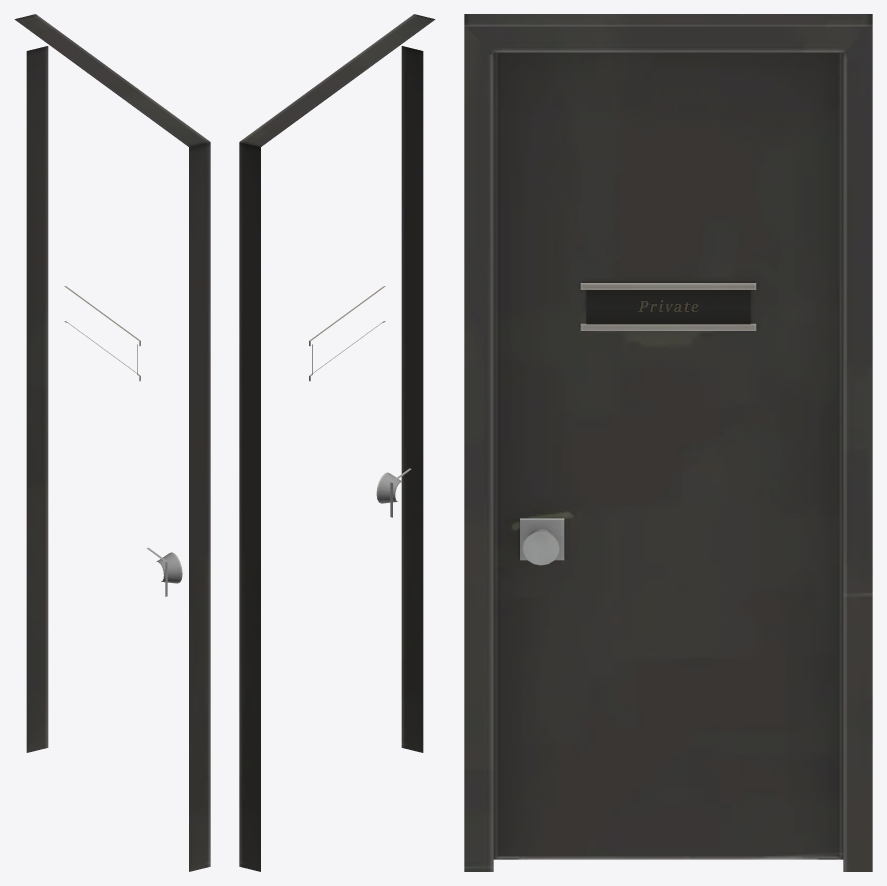
3 views of the same model, side by side, from view 1: azimuth 30°, elevation 25°; view 2: azimuth 150°, elevation 25°; view 3: azimuth 270°, elevation 25° (orthographic). The views are drawn at different scales.
Visible parts, largest first — view 1: body0_model0_lod0_mesh0; view 2: body0_model0_lod0_mesh0; view 3: body0_model0_lod0_mesh0, body0_model0_lod0_mesh1.
Boxes of the visible parts, x1,y1,x2,y2 form: body0_model0_lod0_mesh0: [14, 14, 210, 871]; body0_model0_lod0_mesh0: [239, 14, 435, 871]; body0_model0_lod0_mesh0: [464, 14, 872, 871]; body0_model0_lod0_mesh1: [586, 290, 750, 324].
Bounding box in the file's own units: 4 × 128 × 56.01.
2 materials, 2 textured.
